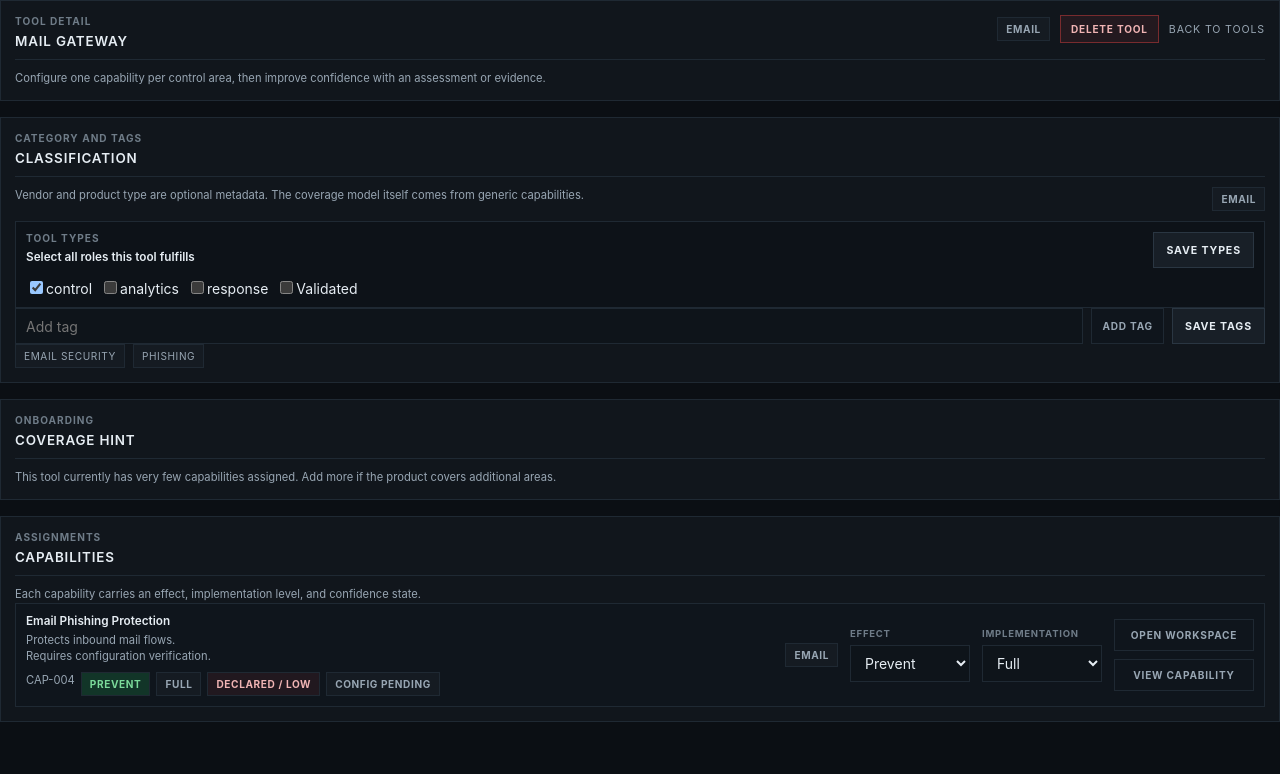
ToolDetailPage › renders ATT&CK overrides and falls back to the default effect when absent
What coordinates should you click on to do the following:
click the button "Open workspace"
I would click on:
 (1184, 635)
Its box is 1114,619 -> 1254,651.
(page scrolled)
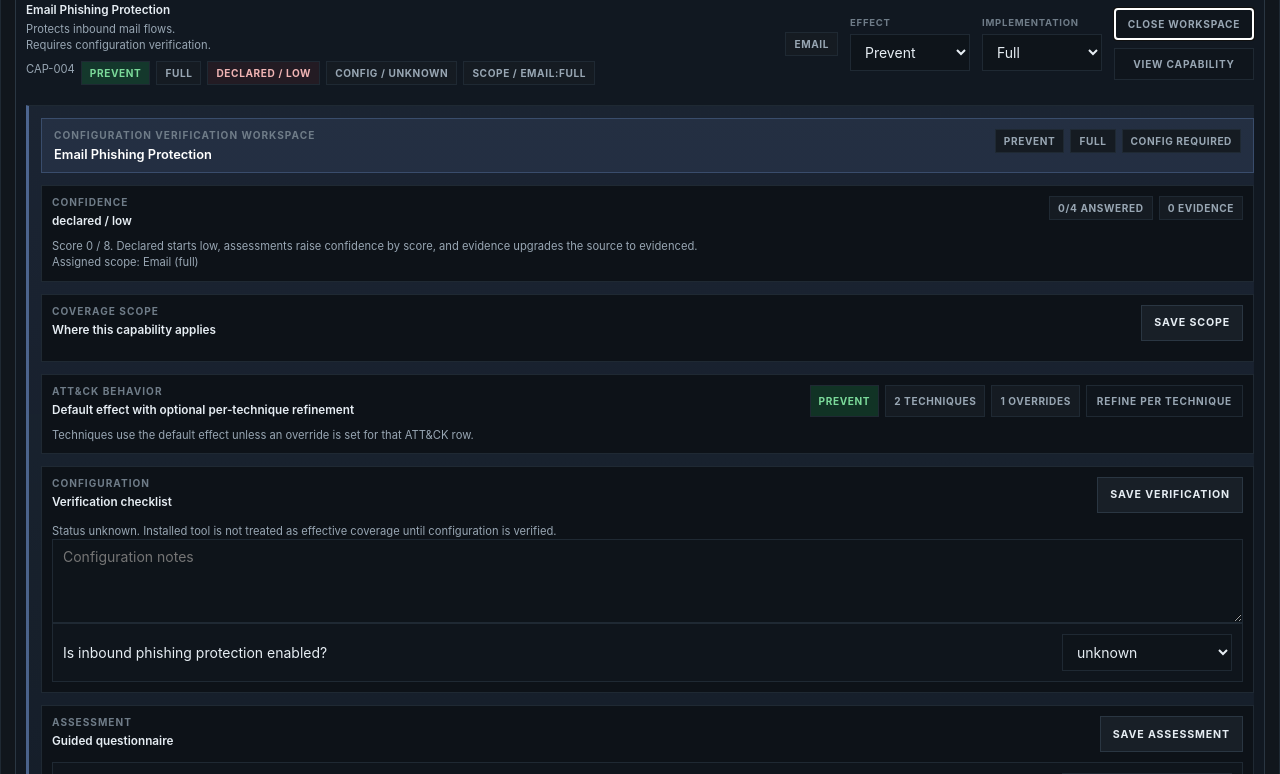
Expected: the text "ATT&CK Behavior" is shown, 52,385 -> 162,397
Expected: the text "2 techniques" is shown, 885,385 -> 985,417
Expected: the text "1 overrides" is shown, 991,385 -> 1080,417
What coordinates should you click on to do the following:
click the button "Refine per technique"
I would click on:
 (1164, 401)
Its box is 1086,385 -> 1243,417.
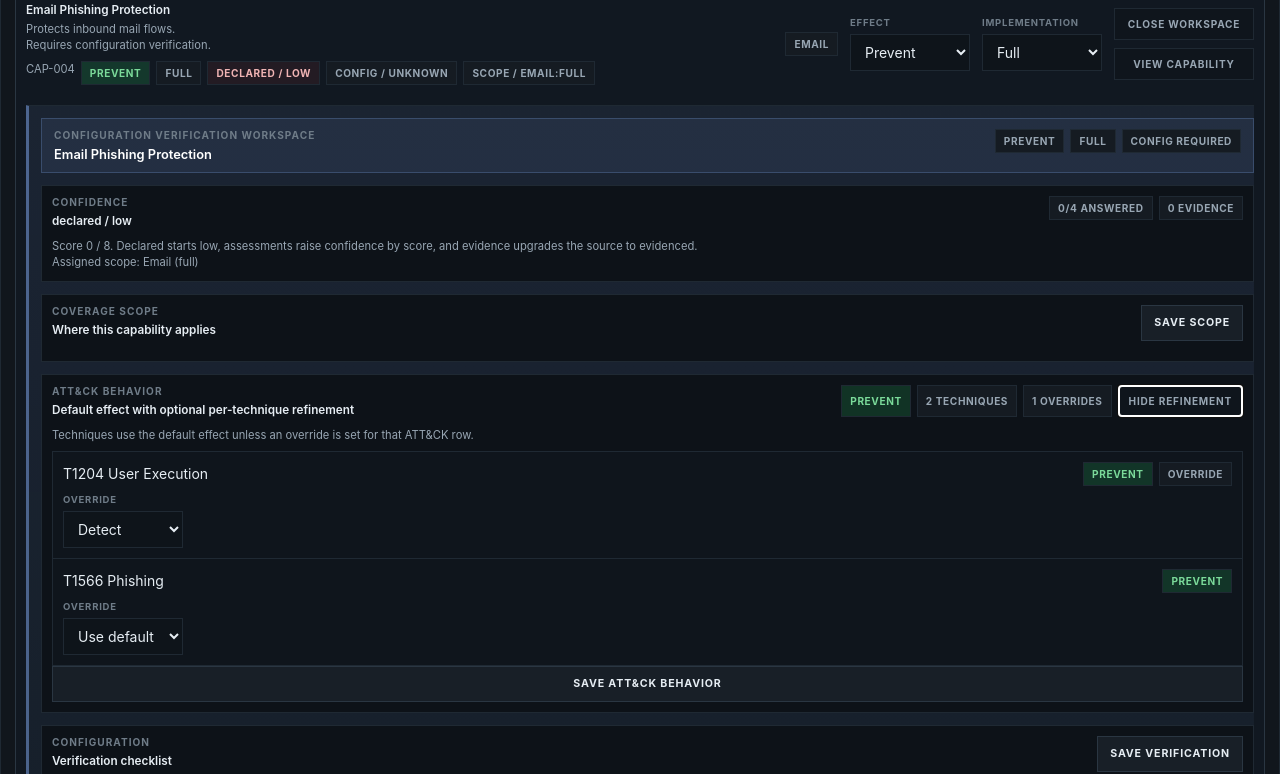
Expected: the text "T1204 User Execution" is shown, 63,465 -> 208,482
Expected: the text "T1566 Phishing" is shown, 63,572 -> 164,589
Expected: the dropdown showing "Detect" below "T1204" is shown, 63,511 -> 183,548
